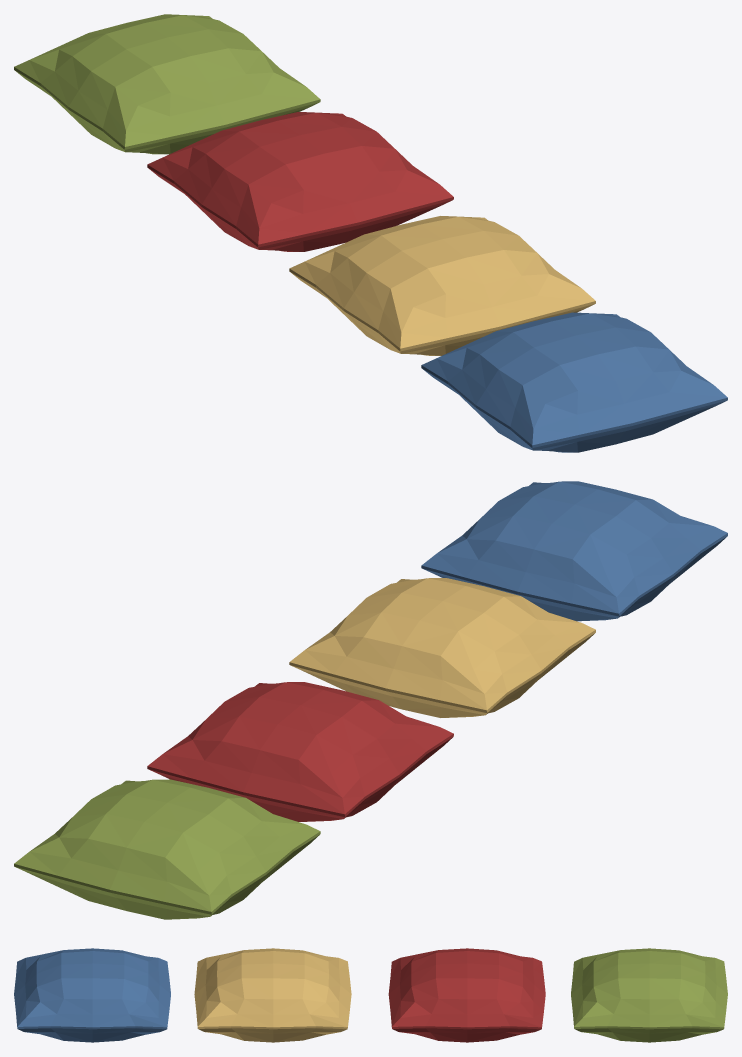
Rendered from Cushions.glb.
3 renders of one model, top to bottom at view 1: azimuth 30°, elevation 25°; view 2: azimuth 150°, elevation 25°; view 3: azimuth 270°, elevation 25°, orthographic. The views are drawn at different scales.
Visible parts, largest first — view 1: Node; view 2: Node; view 3: Node.
Boxes of the visible parts, x1,y1,x2,y2 form: Node: (14, 14, 727, 452); Node: (14, 481, 727, 919); Node: (14, 948, 727, 1042).
Bounding box in the file's own units: 0.9817 × 0.4444 × 4.49.
